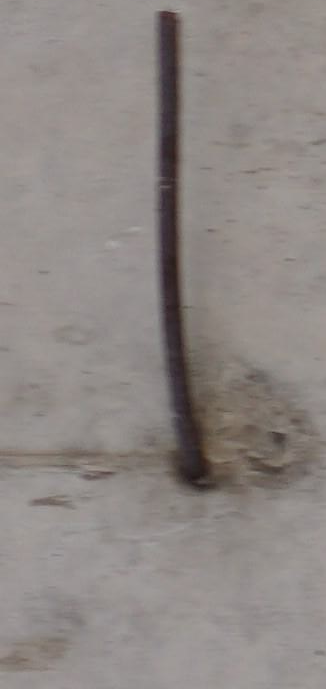Exposed reinforcement: (157, 9, 210, 487)
Spalling: (223, 357, 316, 492)
